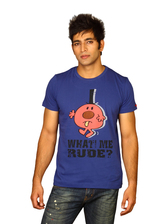clothoes: (42, 63, 140, 193)
